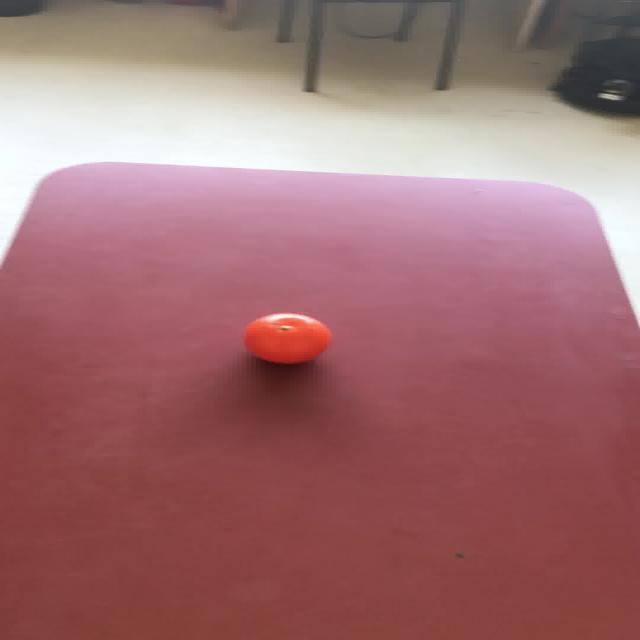orange: (243, 312, 331, 364)
